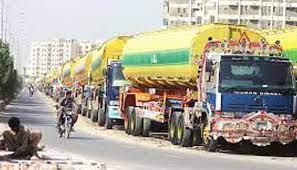truck: (123, 24, 297, 151)
